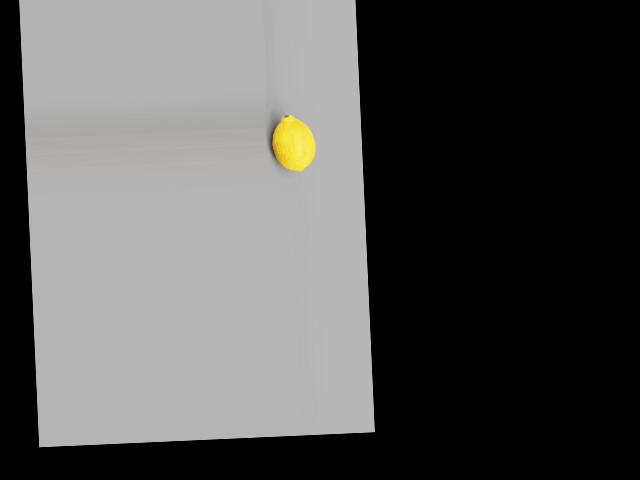lemon: (272, 113, 319, 173)
